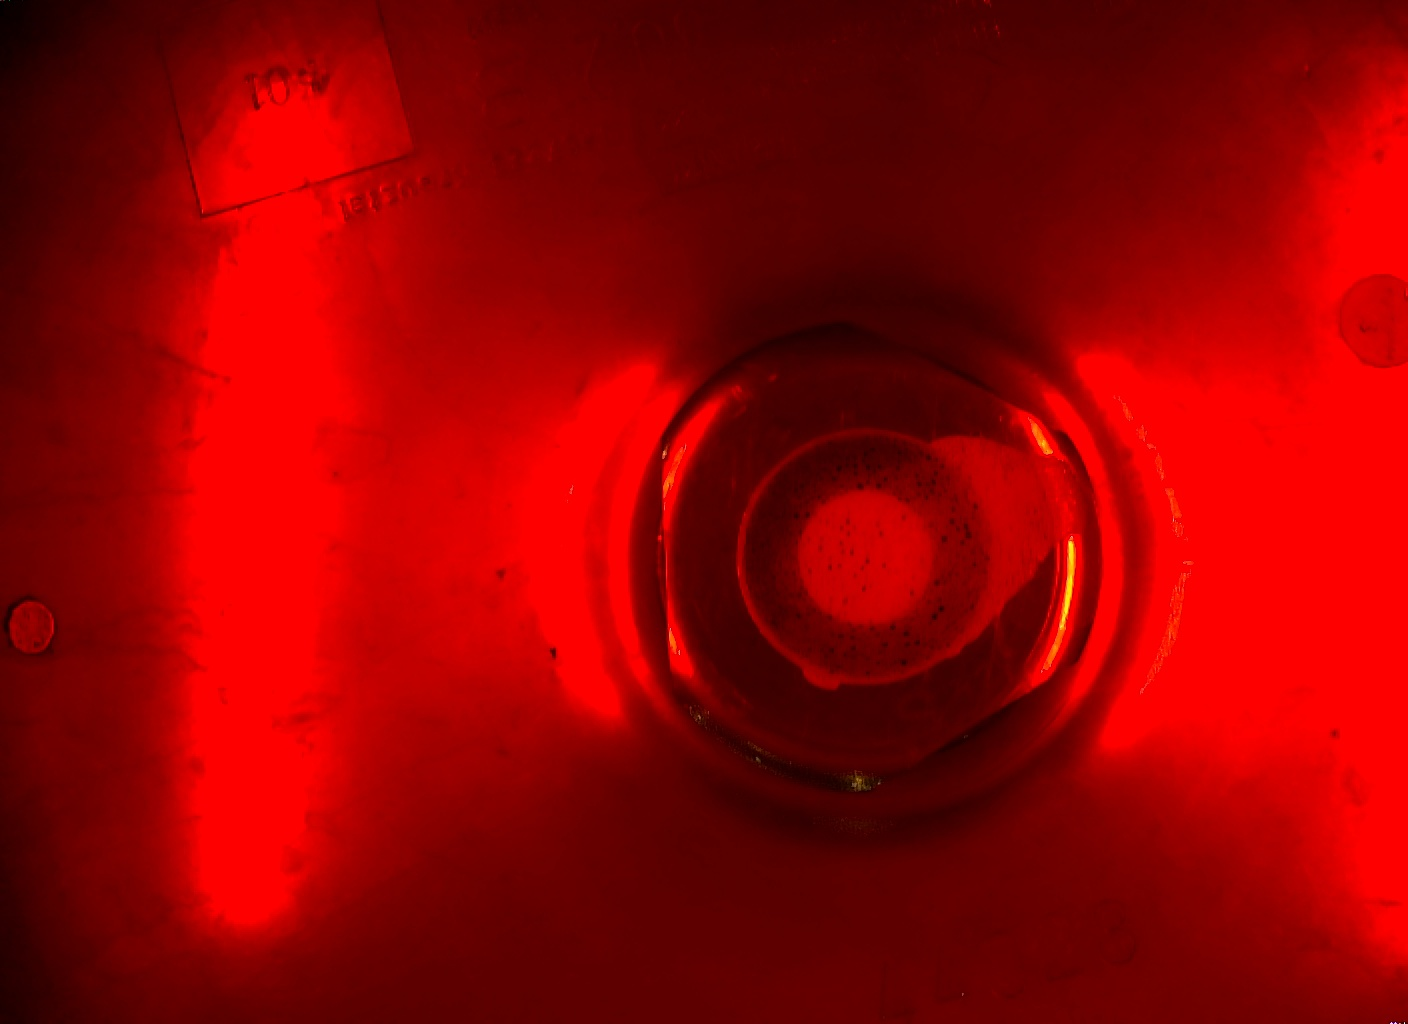pena: (731, 424, 1099, 690)
